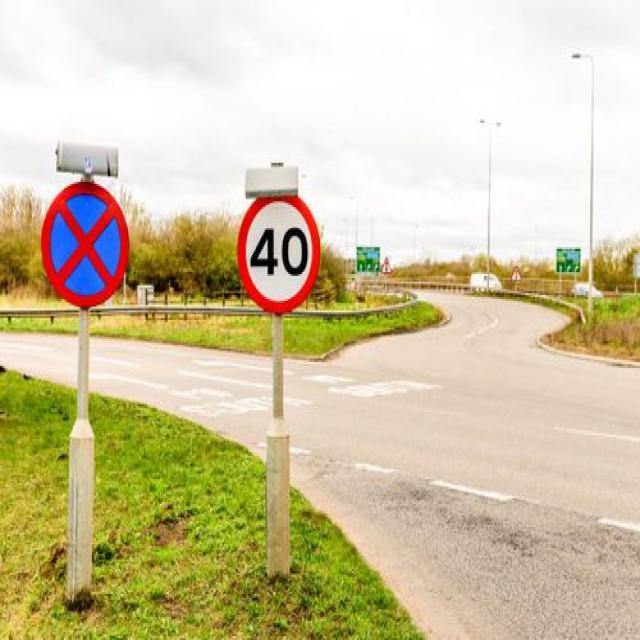speed limit 40: (238, 197, 322, 312)
